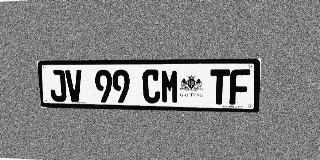9: (95, 70, 113, 103), (112, 70, 130, 103)
C: (142, 69, 160, 103)
F: (229, 69, 250, 105)
J: (48, 70, 67, 102)
M: (161, 69, 179, 104)
T: (209, 69, 230, 105)
V: (65, 70, 83, 102)
